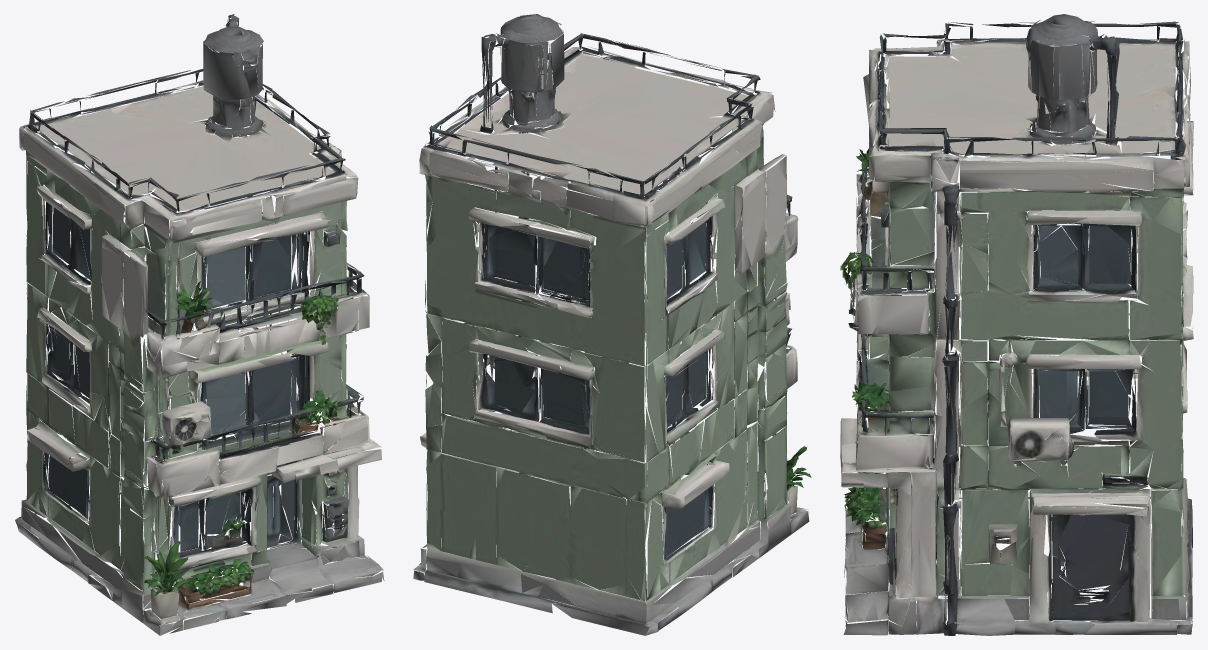
The model's file is building21.glb.
3 renders of one model, left to right at view 1: azimuth 30°, elevation 25°; view 2: azimuth 150°, elevation 25°; view 3: azimuth 270°, elevation 25°, orthographic. The views are drawn at different scales.
Visible parts, largest first — view 1: tripo_node_856315cb-228a-4997-92c0-dac9be959f6f; view 2: tripo_node_856315cb-228a-4997-92c0-dac9be959f6f; view 3: tripo_node_856315cb-228a-4997-92c0-dac9be959f6f.
Boxes of the visible parts, bbox=[...] form: tripo_node_856315cb-228a-4997-92c0-dac9be959f6f: bbox=[15, 14, 384, 635]; tripo_node_856315cb-228a-4997-92c0-dac9be959f6f: bbox=[413, 14, 811, 635]; tripo_node_856315cb-228a-4997-92c0-dac9be959f6f: bbox=[840, 14, 1193, 635].
Size of the model in its own units: 0.5005 by 0.9793 by 0.5395.
Materials: 1 (1 with a texture image).
